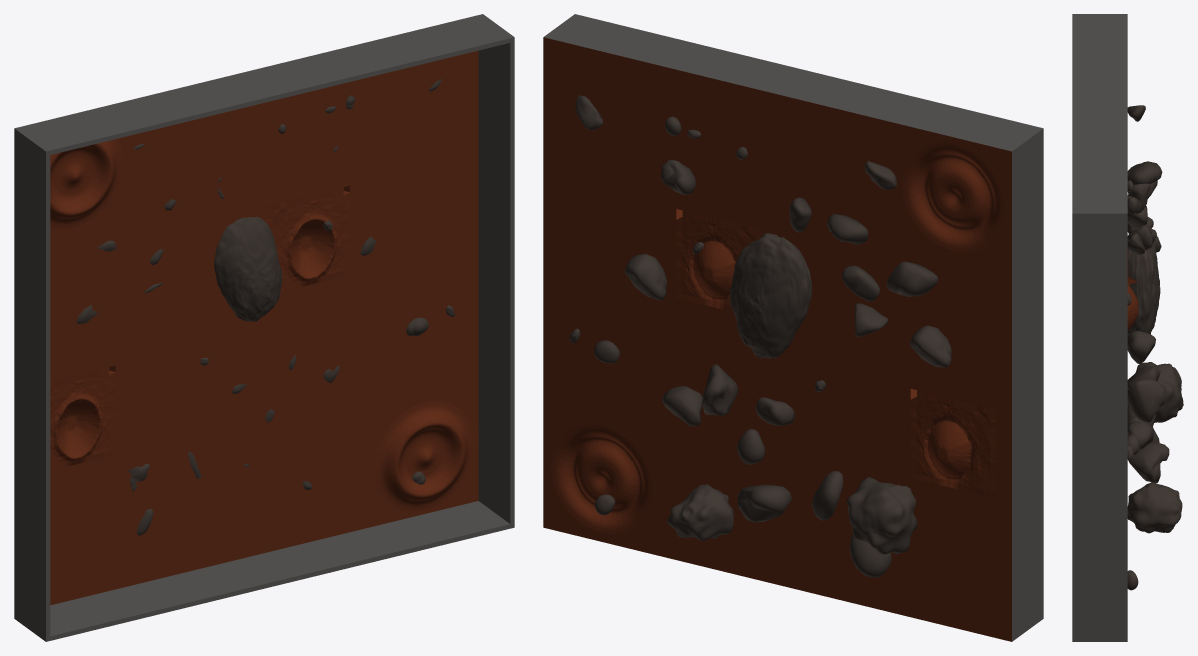
The model's file is mars_terrain.obj.
3 views of the same model, side by side, from view 1: azimuth 30°, elevation 25°; view 2: azimuth 150°, elevation 25°; view 3: azimuth 270°, elevation 25° (orthographic). The views are drawn at different scales.
Visible parts, largest first — view 1: mars_terrain; view 2: mars_terrain; view 3: mars_terrain.
Part boxes in pixels (x1,y1,x2,y2): mars_terrain: (14,14,514,641); mars_terrain: (543,14,1043,641); mars_terrain: (1072,14,1183,641).
Size of the model in its own units: 12.8 by 12.8 by 3.01.
